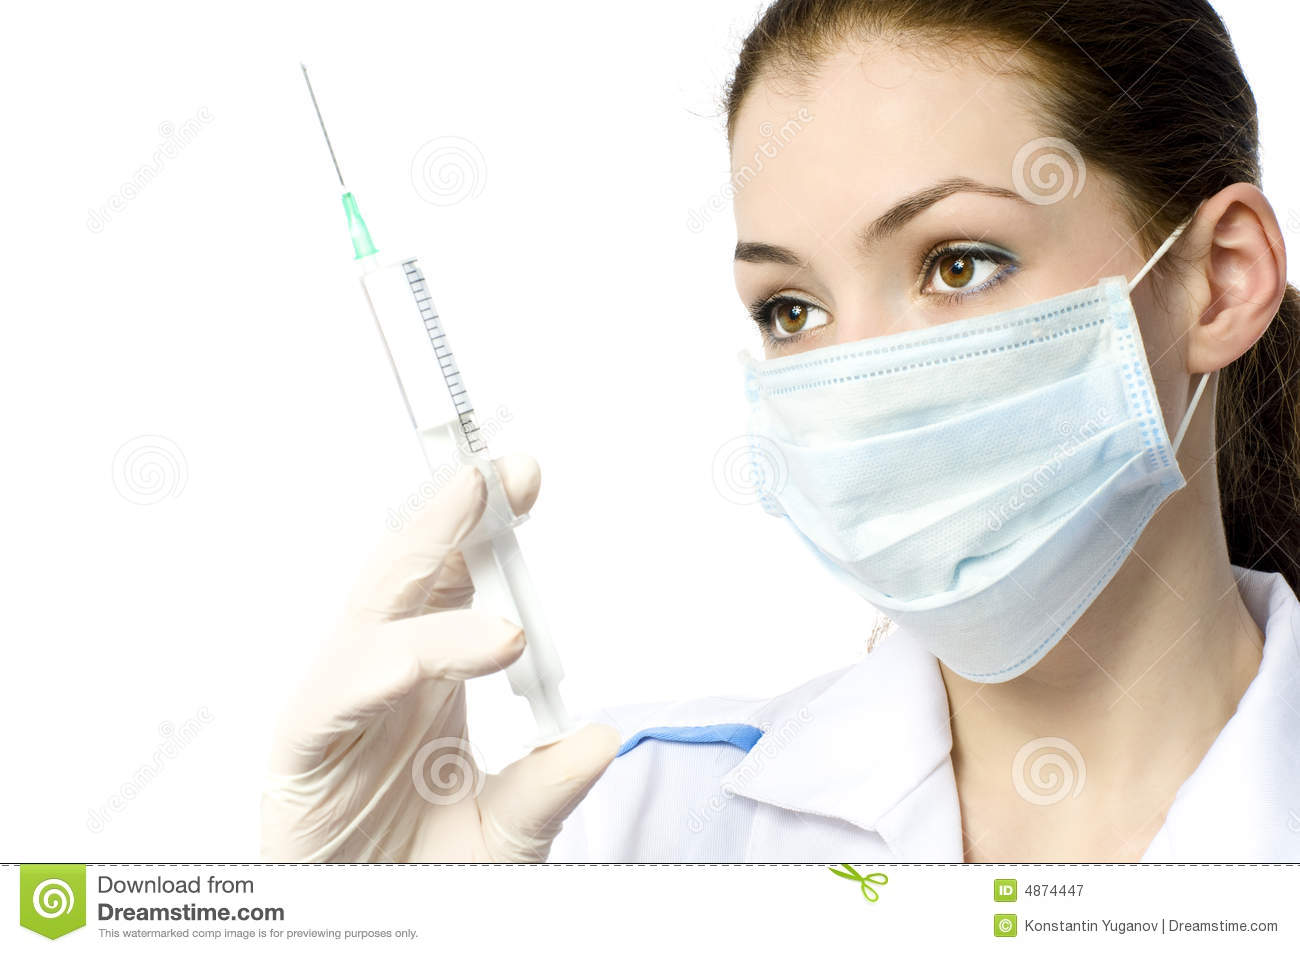mask: (755, 286, 1184, 684)
